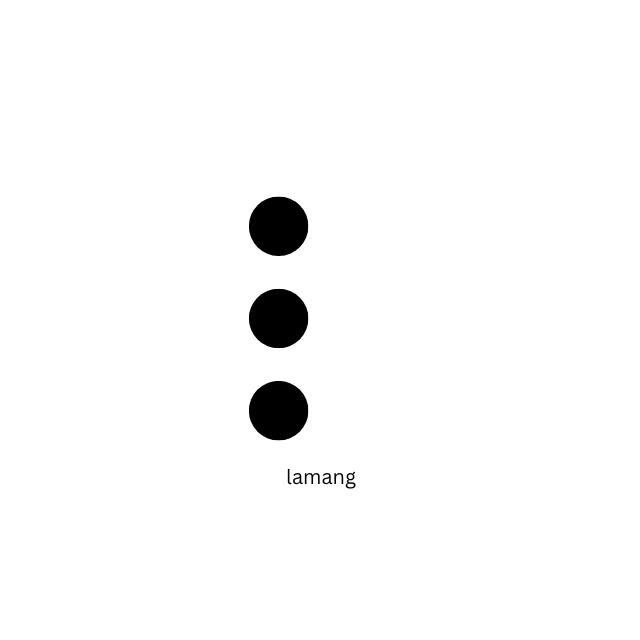one_cell_alphabet_lamang: (247, 195, 395, 443)
